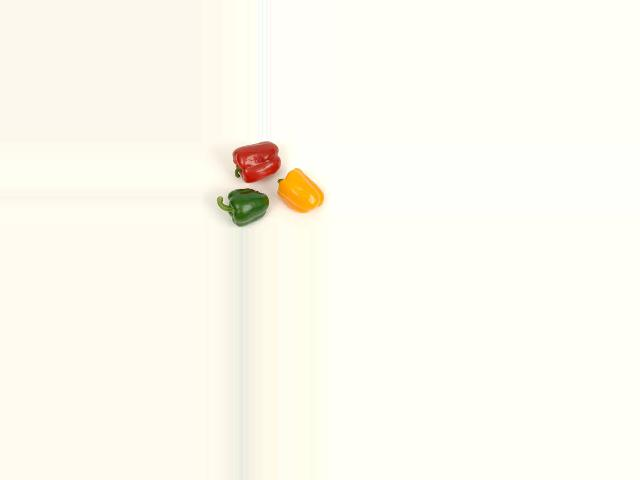bell_pepper: (215, 186, 269, 227)
